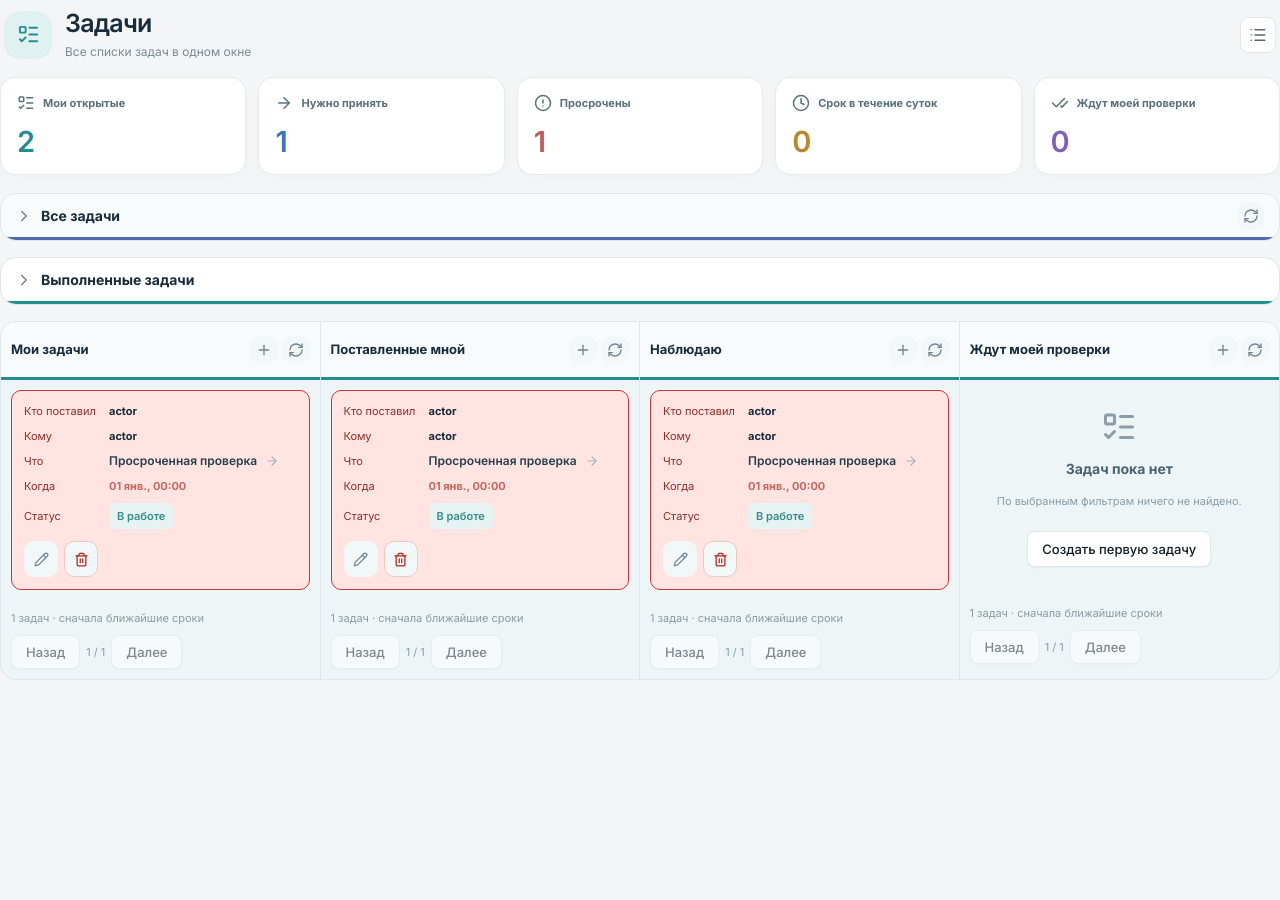
Test: overdue cards use the full-card warning and completed tasks stay in the completed section
Expected: the text "Готовая проверка" is not shown
Click the button "Выполненные задачи".
click(105, 280)  # box [15, 265, 194, 294]
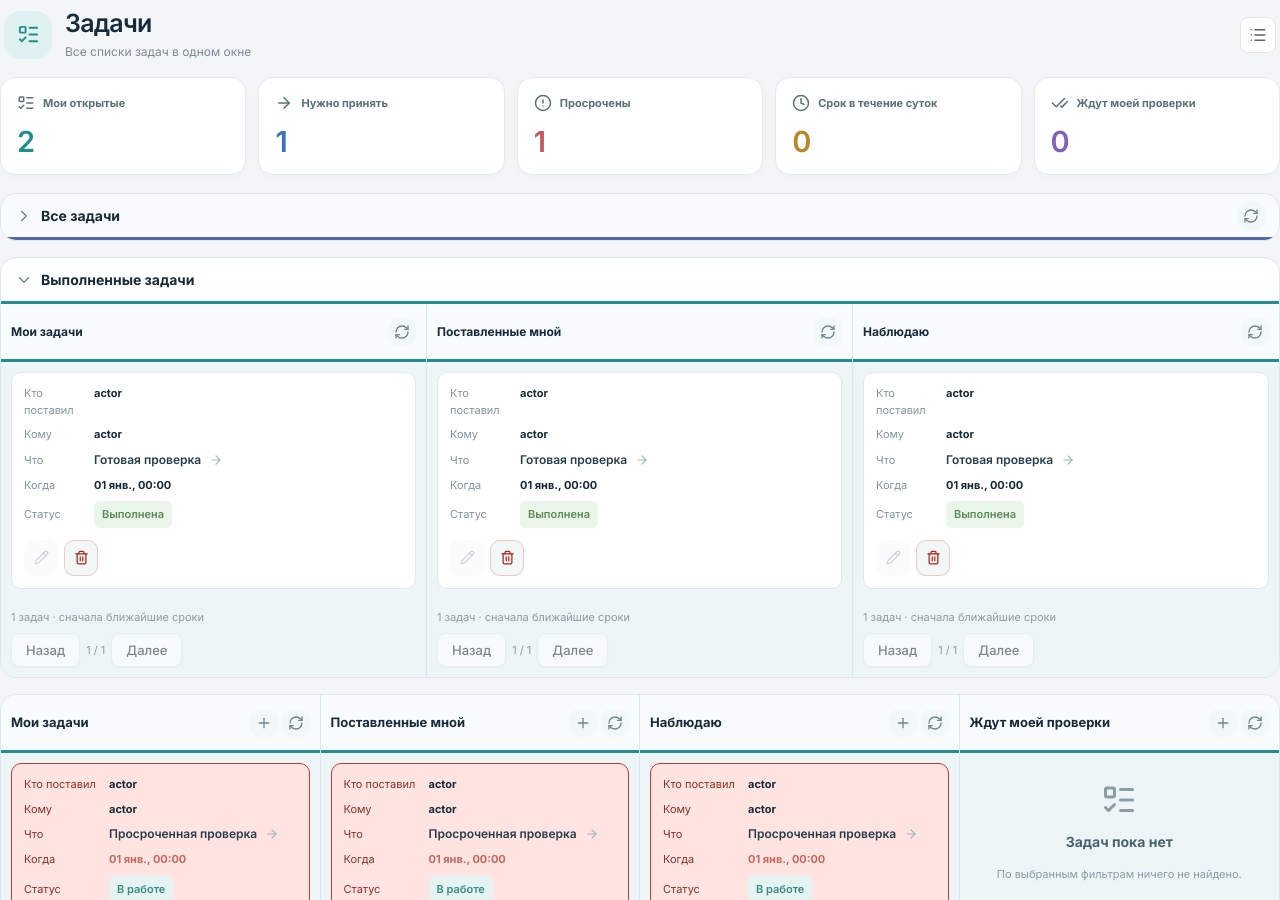
Result: the number of buttons "Готовая проверка" is 3 at [94, 451, 403, 469]; [520, 451, 829, 469]; [946, 451, 1256, 469]
